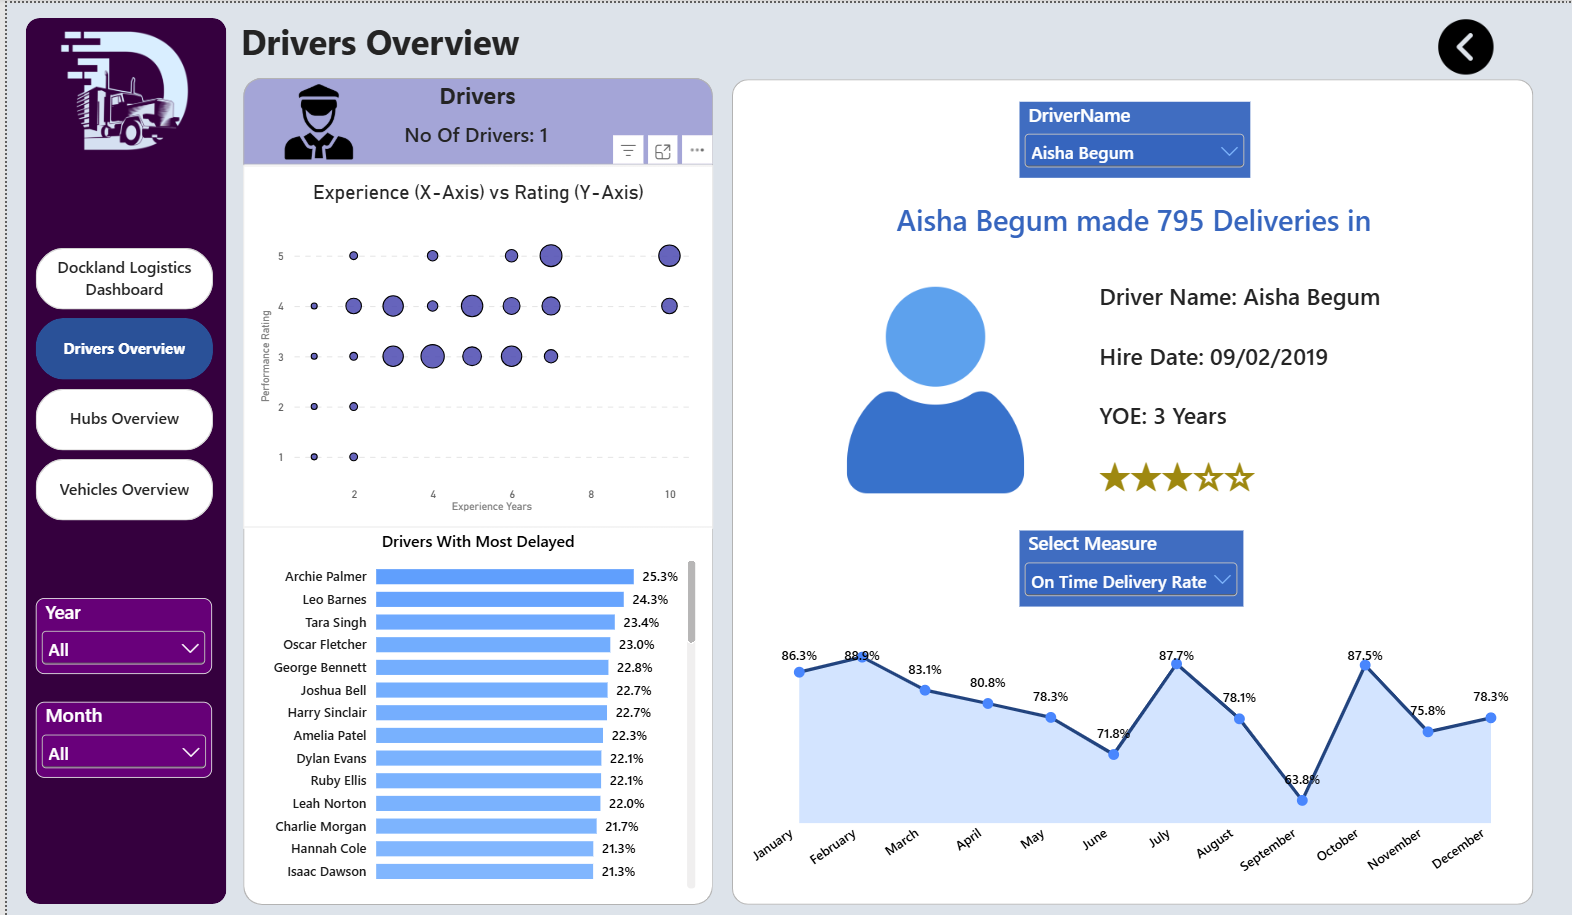

This screenshot's page, from the dashboard's own definition file:
{"tool":"powerbi","page":{"name":"Drivers Overview","canvas":[1450,850],"ordinal":1},"visuals":[{"type":"shape","box":[17.1,14.3,185.7,820],"z":0},{"type":"textbox","box":[216.7,14.1,473.1,44.9],"z":1000},{"type":"slicer","fields":{"Values":["Date Table.Year"]},"box":[26.6,551.1,162.8,70],"z":2000},{"type":"slicer","fields":{"Values":["Date Table.Month"]},"box":[26.6,646.8,163.3,70],"z":3000},{"type":"shape","box":[218.7,69.8,434.7,765.3],"z":4000},{"type":"shape","box":[218.7,69.8,434.7,80.4],"z":5000},{"type":"cardVisual","fields":{"Data":["Drivers.No of Drivers"]},"box":[328,100.1,211.4,40],"z":6000},{"type":"textbox","box":[387.3,71.1,95.7,40],"z":7000},{"type":"scatterChart","title":"Experience (X-Axis) vs Rating (Y-Axis)","fields":{"X":["Drivers.Experience Years"],"Y":["Drivers.Performance Rating"],"Size":["Sum(Drivers.Experience Years)1"]},"box":[218.7,150.2,434.7,335.9],"z":8000},{"type":"barChart","title":"Drivers With Most Delayed","fields":{"Category":["Drivers.DriverName"],"Y":["Orders.Delayed Delivery Rate"]},"box":[218.7,472.9,434.7,362.2],"z":9000},{"type":"image","box":[17.1,14.3,185.7,144.3],"z":10000},{"type":"cardVisual","fields":{"Data":["Orders.Year Month Title"]},"box":[1084.1,14.5,251.4,40],"z":11000},{"type":"shape","box":[670.5,71.1,741.6,764],"z":12000},{"type":"slicer","fields":{"Values":["Drivers.DriverName"]},"box":[936.5,90.9,213.4,70],"z":13000},{"type":"cardVisual","fields":{"Data":["Drivers.Drivers Title"]},"box":[688.9,171.2,707.4,58],"z":14000},{"type":"cardVisual","fields":{"Data":["Drivers.Drivers Name Title","Drivers.Hire date Title","Drivers.YOE","Drivers.Star Rating"]},"box":[994.5,247.6,341.2,214.7],"z":15000},{"type":"image","box":[746.9,262.1,223.9,191],"z":16000},{"type":"image","box":[241.1,75.1,96.2,69.8],"z":17000},{"type":"areaChart","fields":{"Y":["Orders.On Time Delivery Rate"],"Category":["Date Table.Month"]},"box":[670.5,575.6,741.6,259.5],"z":18000},{"type":"slicer","fields":{"Values":["Select Measure.Select Measure"]},"box":[936.5,488.7,206.8,70],"z":19000},{"type":"image","box":[1304.1,14.5,92.2,51.4],"z":20000},{"type":"pageNavigator","box":[26.5,226.7,164.7,255.5],"z":21000}]}

Visuals, with their boxes in screenshot pixels (x1, y1, x2, y2), scaled from the page's 1450x850 canvas onto the 1572x915 screenshot:
shape: bbox(19, 15, 220, 898)
textbox: bbox(235, 15, 748, 64)
slicer - Date Table.Year: bbox(29, 593, 205, 669)
slicer - Date Table.Month: bbox(29, 696, 206, 772)
shape: bbox(237, 75, 708, 899)
shape: bbox(237, 75, 708, 162)
cardVisual - Drivers.No of Drivers: bbox(356, 108, 585, 151)
textbox: bbox(420, 77, 524, 120)
"Experience (X-Axis) vs Rating (Y-Axis)" scatterChart: bbox(237, 162, 708, 523)
"Drivers With Most Delayed" barChart: bbox(237, 509, 708, 899)
image: bbox(19, 15, 220, 171)
cardVisual - Orders.Year Month Title: bbox(1175, 16, 1448, 59)
shape: bbox(727, 77, 1531, 899)
slicer - Drivers.DriverName: bbox(1015, 98, 1247, 173)
cardVisual - Drivers.Drivers Title: bbox(747, 184, 1514, 247)
cardVisual - Drivers.Drivers Name Title x Drivers.Hire date Title: bbox(1078, 267, 1448, 498)
image: bbox(810, 282, 1052, 488)
image: bbox(261, 81, 366, 156)
areaChart - Orders.On Time Delivery Rate x Date Table.Month: bbox(727, 620, 1531, 899)
slicer - Select Measure.Select Measure: bbox(1015, 526, 1239, 601)
image: bbox(1414, 16, 1514, 71)
pageNavigator: bbox(29, 244, 207, 519)
